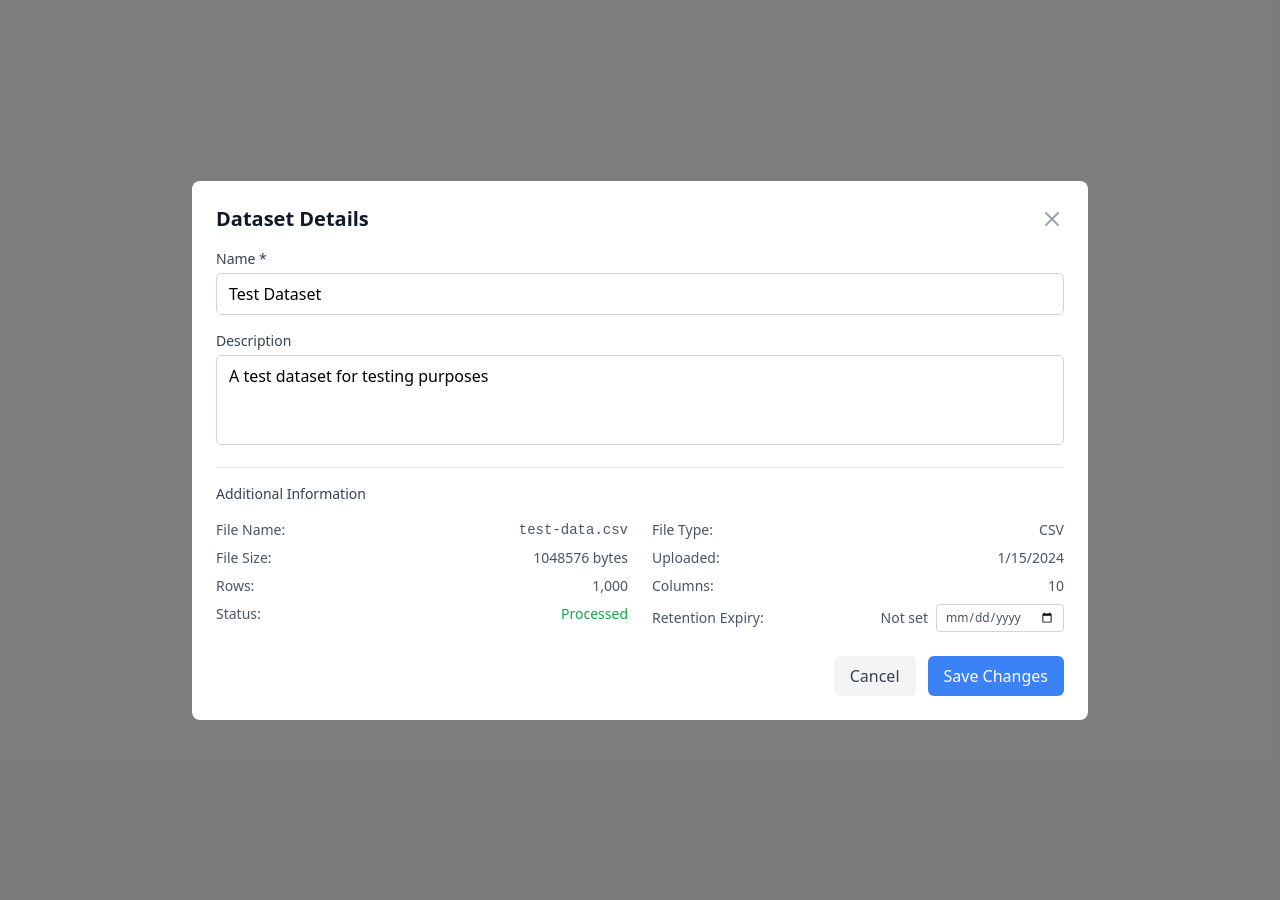
Test: DatasetDetailsModal › disables save button when name is empty
Clear the name
Clear the field showing "Test Dataset": [640, 294] box [216, 272, 1064, 314]
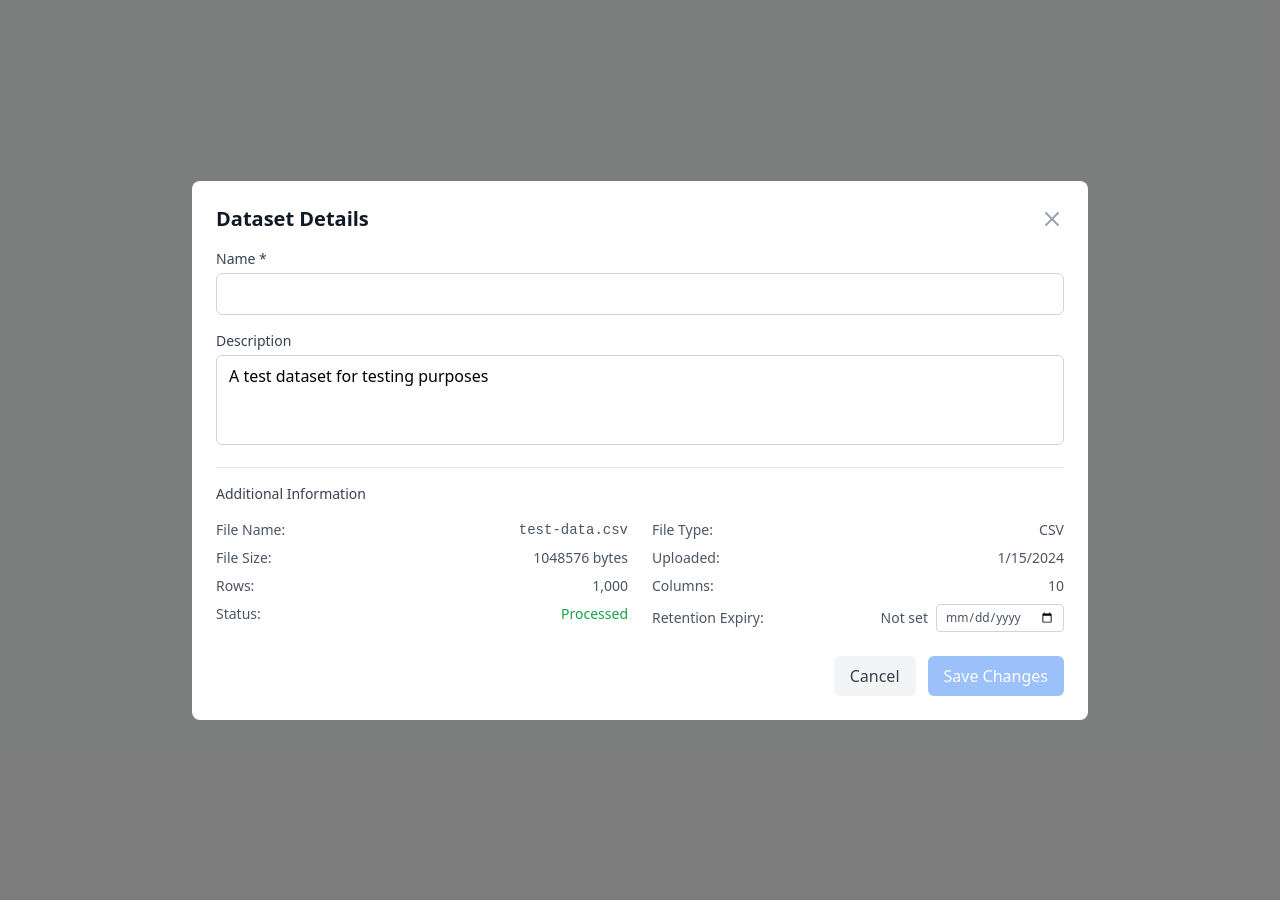
Check: the button "Save Changes" is disabled, box [928, 656, 1064, 696]
